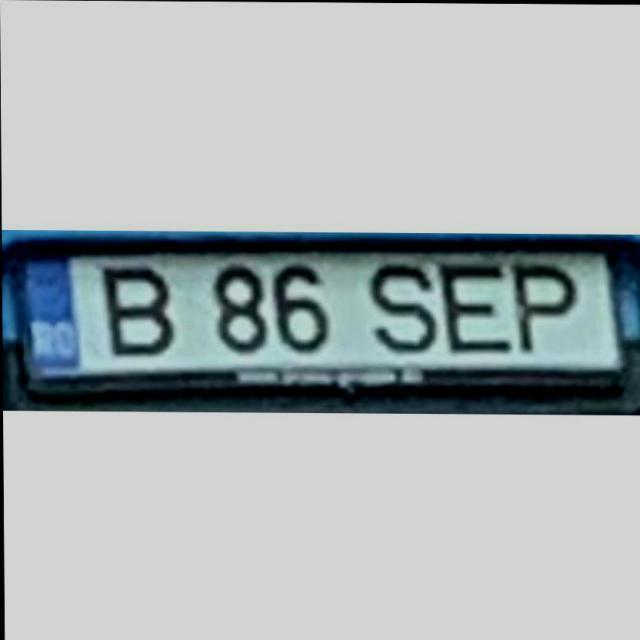license-plates: (16, 253, 624, 386)
